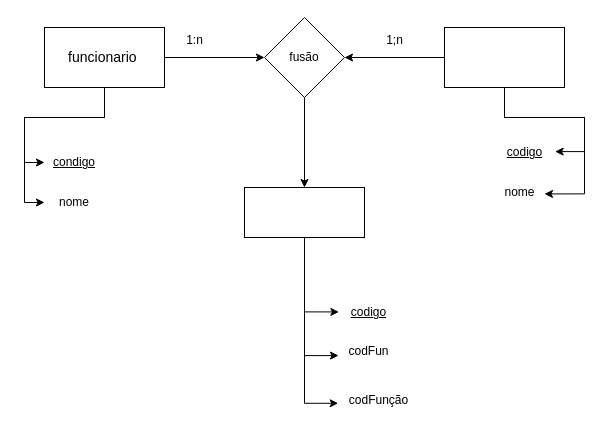
Image size: 610x433. Some labels were removed from this diagram. The shapes that lost their labels are listed below. From the top down, each one's centre as x and y in pixels, then its label:
At (504,57): "funções".
At (304,212): "funcao_funcionario".
